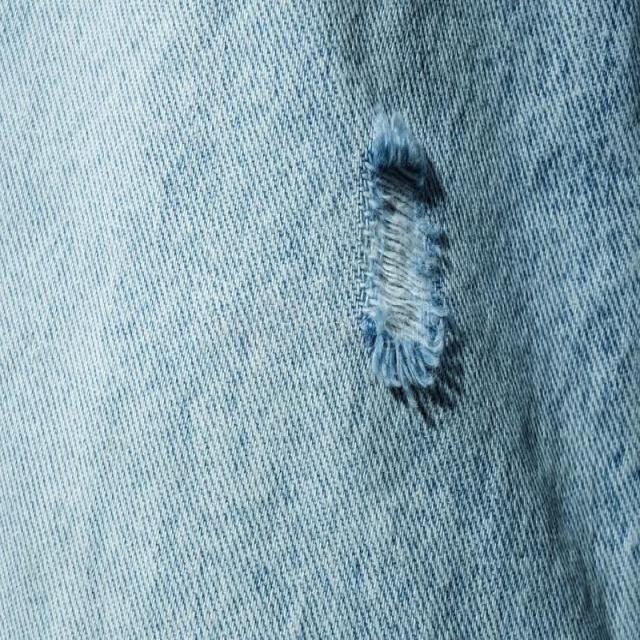Hole: (361, 109, 448, 392)
